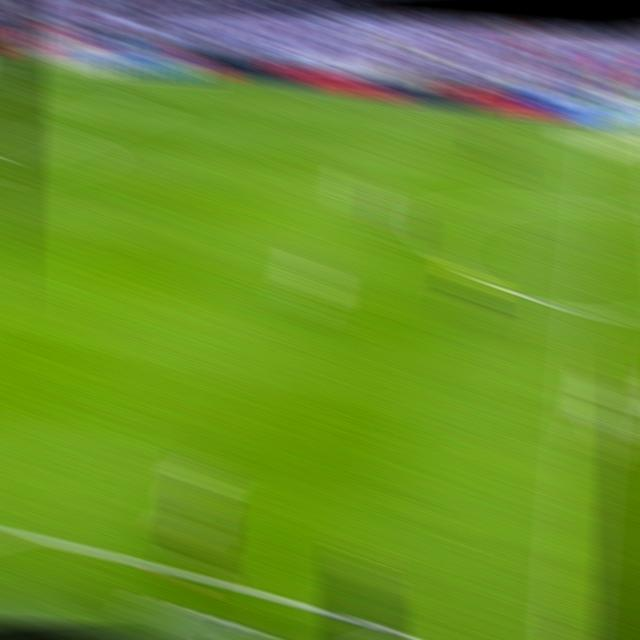bigarea_bottom_outter: (63, 118, 94, 141)
halfcircle_bottom: (576, 293, 614, 333)
halfcircle_top: (588, 190, 623, 223)
